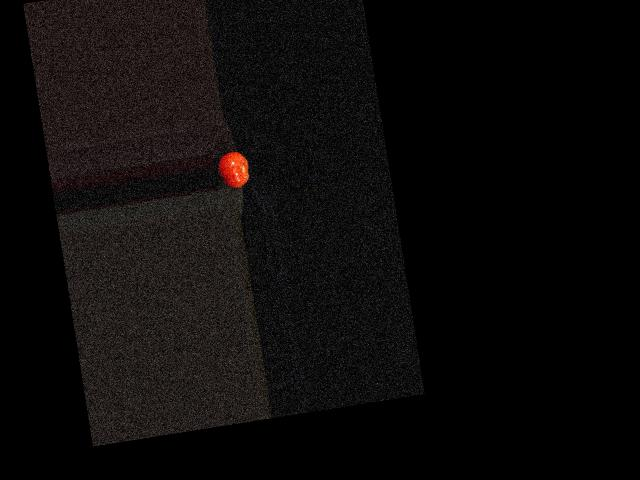tomato: (215, 149, 251, 190)
